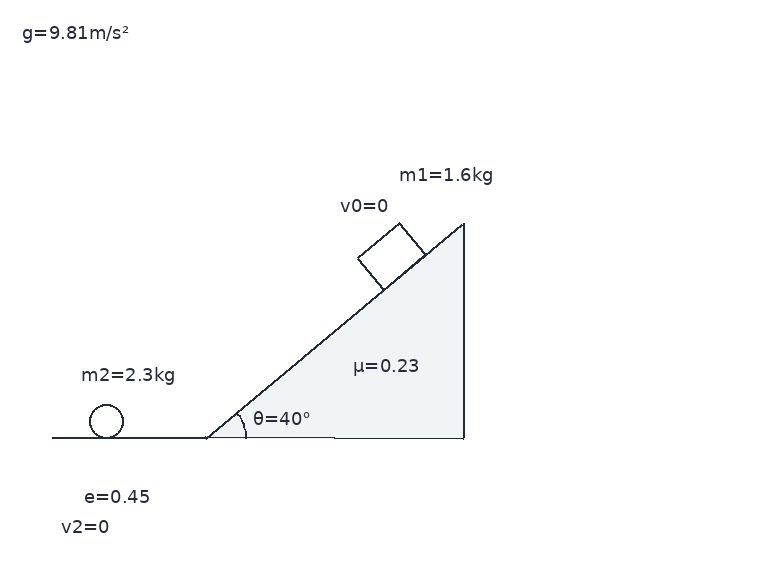ball: (87, 402, 125, 440)
block: (355, 220, 428, 291)
ramp: (204, 221, 465, 440)
